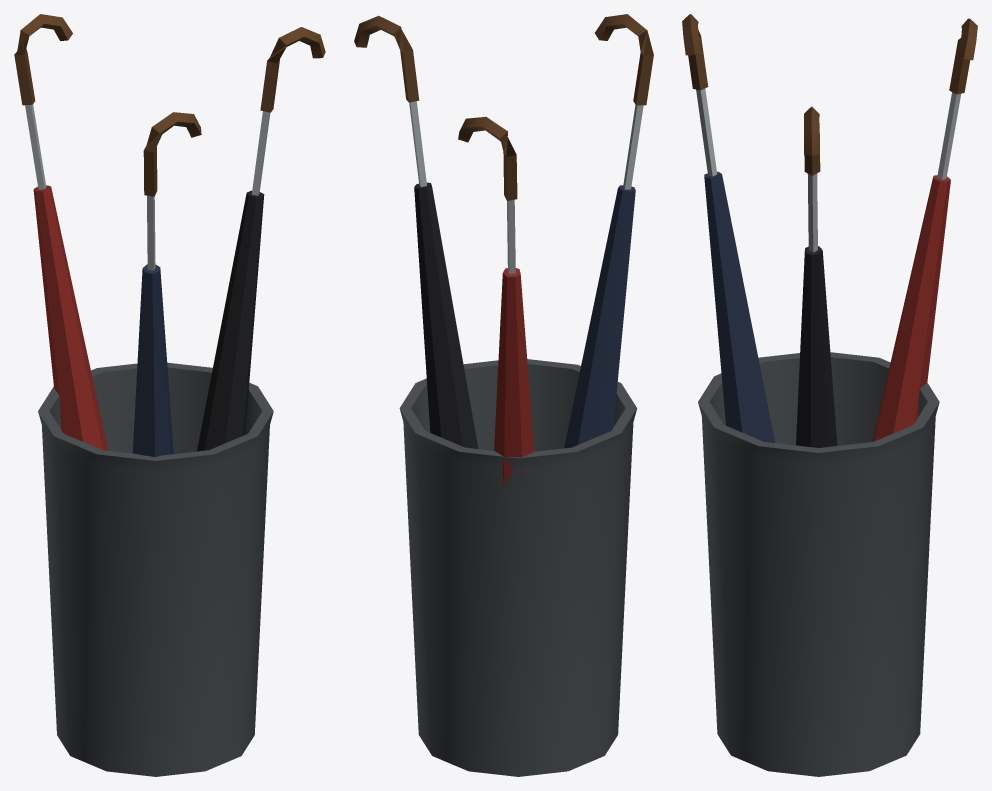
Rendered from umbrella_stand.glb.
The picture shows the model from 3 angles, left to right: view 1: azimuth 30°, elevation 25°; view 2: azimuth 150°, elevation 25°; view 3: azimuth 270°, elevation 25°; orthographic projection. The views are drawn at different scales.
Visible parts, largest first — view 1: Umbrellas; view 2: Umbrellas; view 3: Umbrellas.
Boxes of the visible parts, bbox=[...] form: Umbrellas: bbox=[14, 14, 325, 776]; Umbrellas: bbox=[354, 14, 653, 776]; Umbrellas: bbox=[682, 14, 977, 776].
Size of the model in its own units: 0.4076 by 0.9867 by 0.3793.
